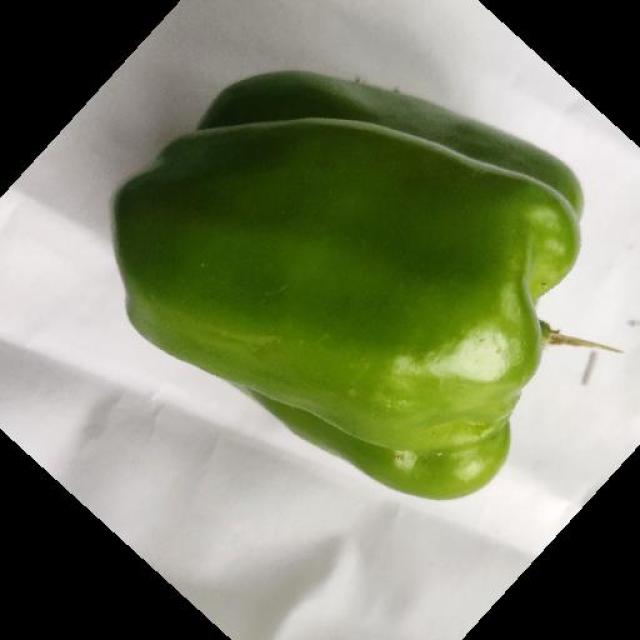Fresh_Capsicum: (137, 23, 575, 494)
